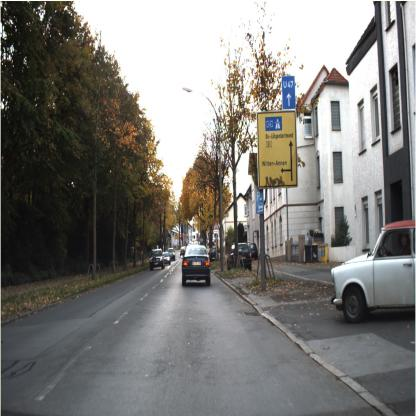DANGER: (212, 218, 220, 230)
